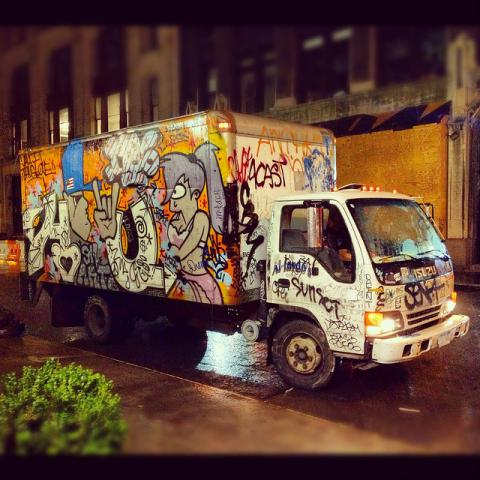truck: (17, 108, 476, 387)
